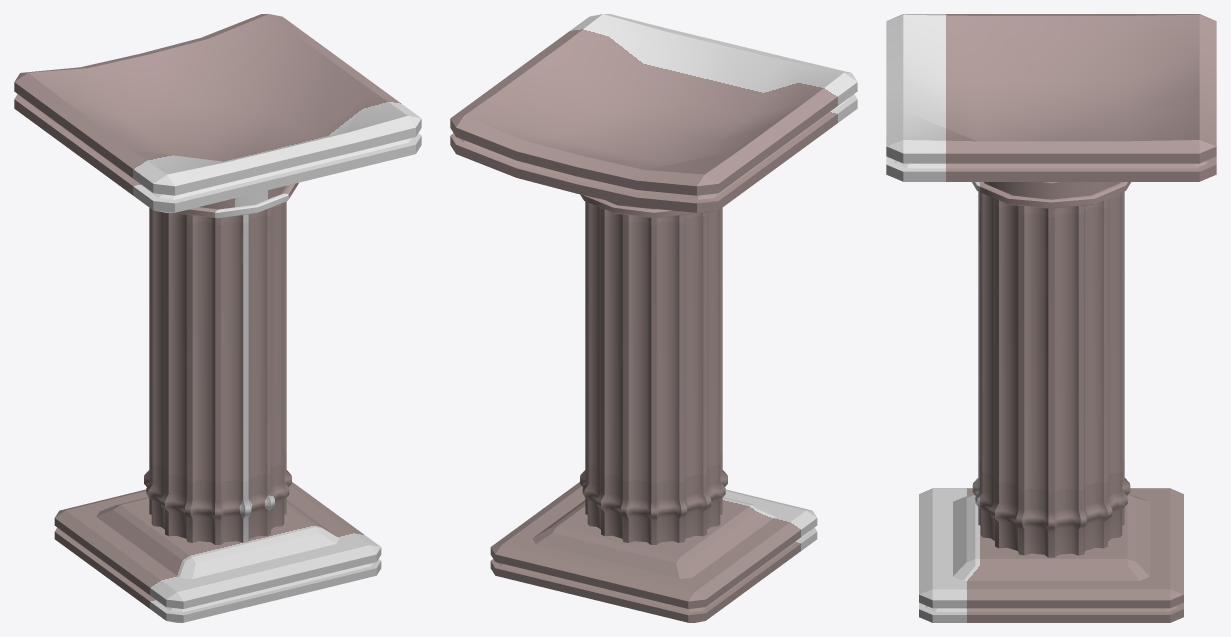
File: SM_smallPodium.fbx
The picture shows the model from 3 angles, left to right: view 1: azimuth 30°, elevation 25°; view 2: azimuth 150°, elevation 25°; view 3: azimuth 270°, elevation 25°; orthographic projection. The views are drawn at different scales.
Visible parts, largest first — view 1: SM_smallPodium; view 2: SM_smallPodium; view 3: SM_smallPodium.
Part boxes in pixels (x1=…): SM_smallPodium: x1=14, y1=14, x2=421, y2=622; SM_smallPodium: x1=450, y1=14, x2=857, y2=622; SM_smallPodium: x1=886, y1=14, x2=1216, y2=622.
Bounding box in the file's own units: 38.02 × 62.87 × 38.02.
Materials: 1 (1 with a texture image).
